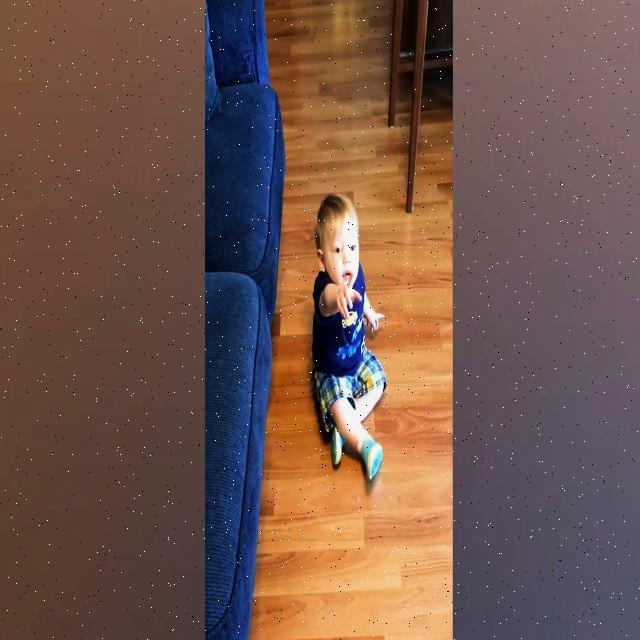child: (313, 195, 385, 479)
